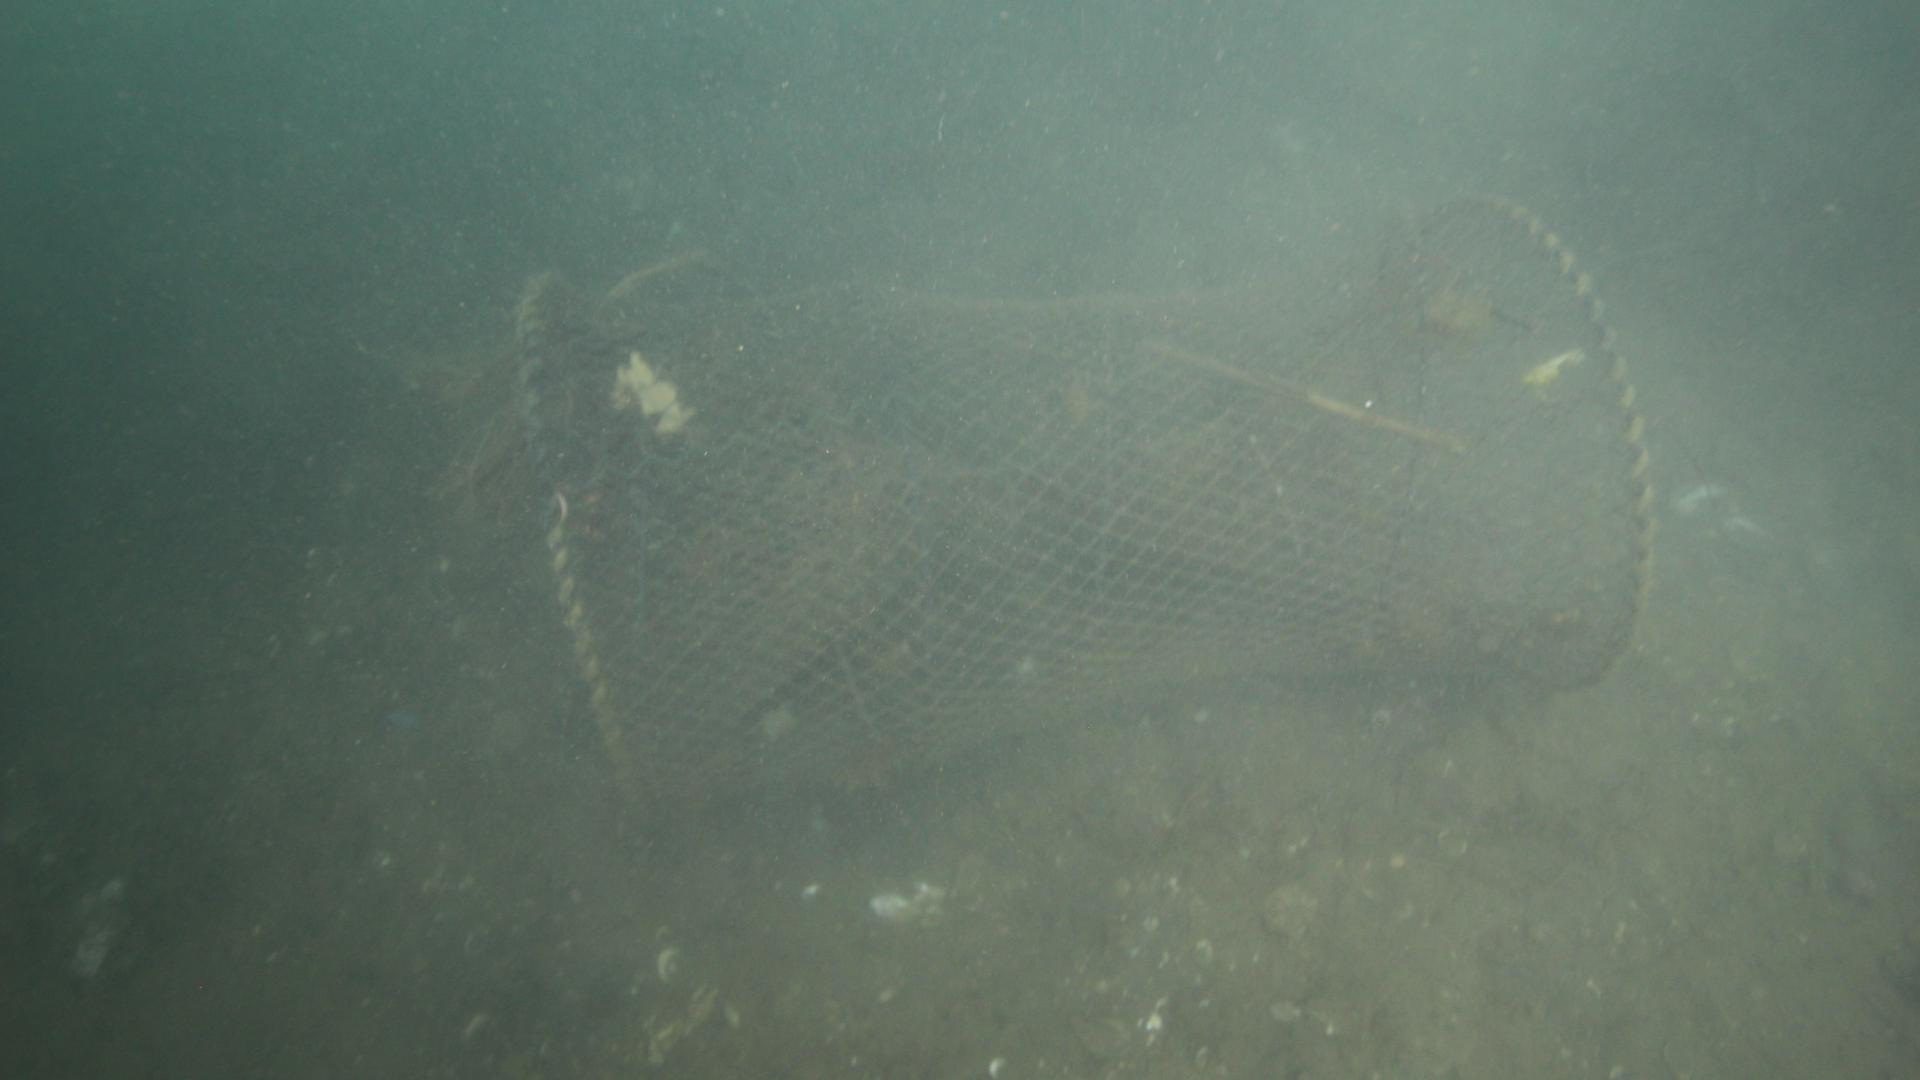spring fish trap: (512, 189, 1656, 829)
